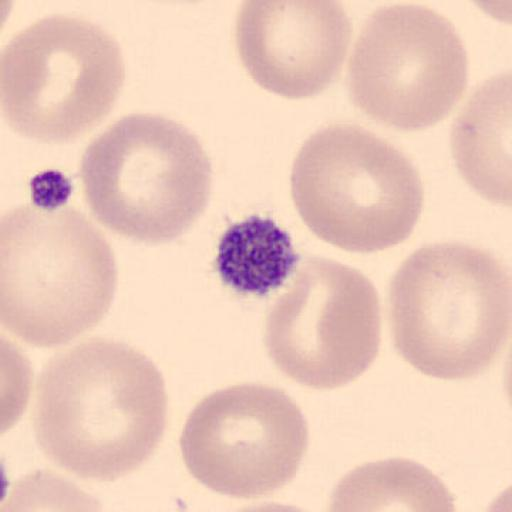Platelet: (208, 212, 304, 299), (26, 166, 76, 215)
RBC: (34, 336, 169, 481), (78, 110, 214, 245), (290, 121, 424, 256), (386, 239, 510, 382), (262, 252, 384, 394), (0, 202, 118, 348), (0, 12, 128, 146), (344, 1, 471, 133), (178, 380, 313, 500), (232, 1, 354, 102), (448, 72, 512, 207), (323, 455, 458, 512), (0, 467, 110, 512), (1, 334, 33, 436), (213, 500, 332, 512), (462, 0, 512, 25), (479, 479, 512, 511), (0, 0, 21, 41)
